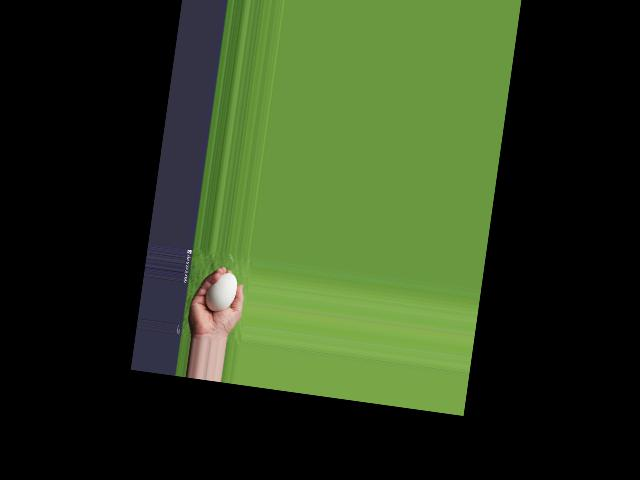egg: (203, 270, 238, 315)
